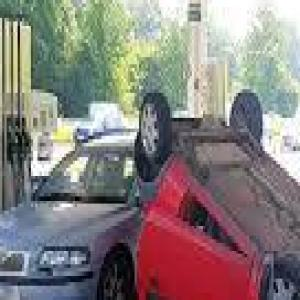severe: (132, 78, 299, 300)
